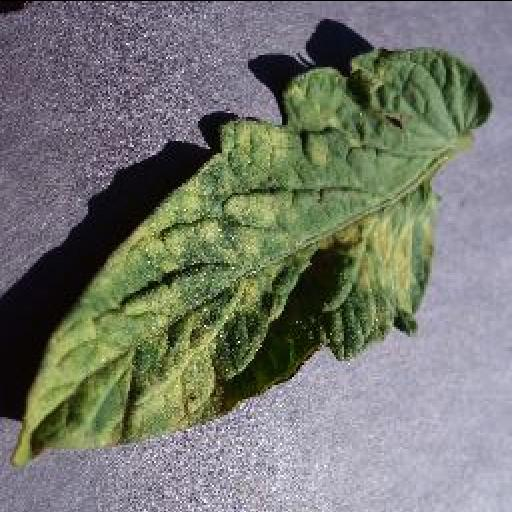disease_tomato: (10, 46, 490, 468)
